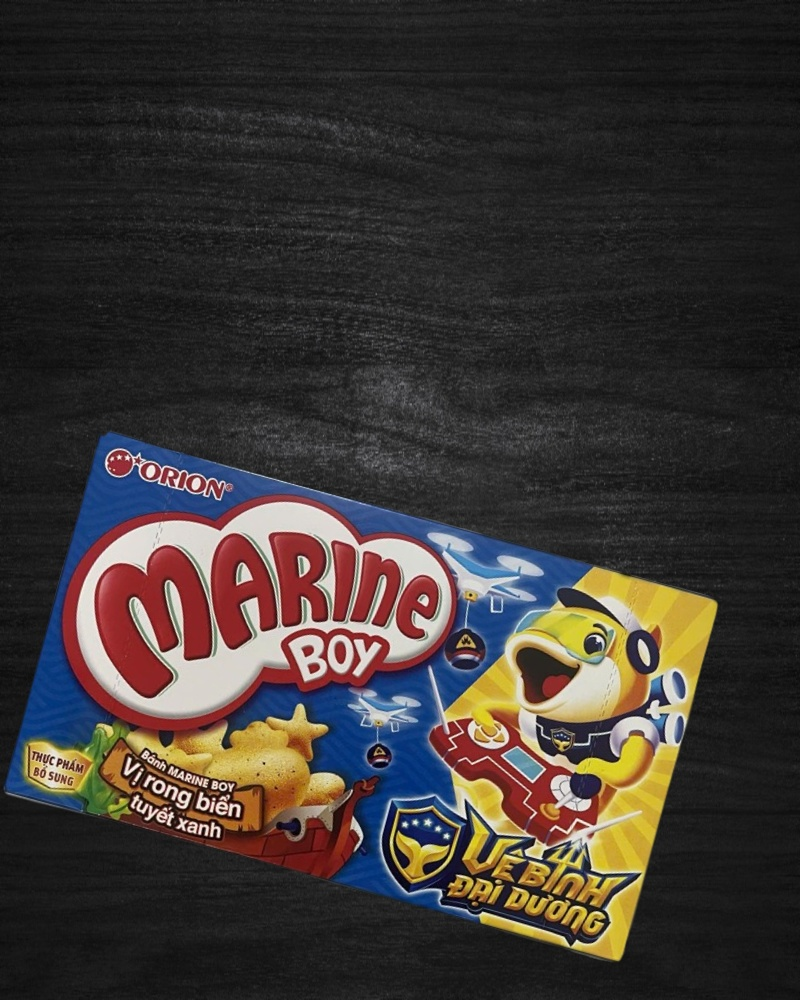Marine: (3, 430, 723, 966)
